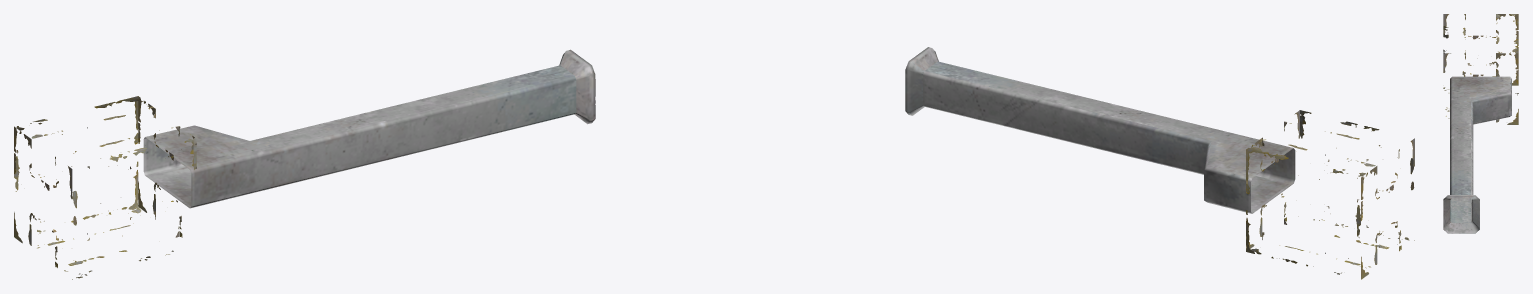
File: 100_Yellow_Extensioncord.fbx
3 views of the same model, side by side, from view 1: azimuth 30°, elevation 25°; view 2: azimuth 150°, elevation 25°; view 3: azimuth 270°, elevation 25° (orthographic). The views are drawn at different scales.
Visible parts, largest first — view 1: LOD_1_Group_0_Sub_1__sm42_209_BooklShelfJack01A_A_Mat; view 2: LOD_1_Group_0_Sub_1__sm42_209_BooklShelfJack01A_A_Mat; view 3: LOD_1_Group_0_Sub_1__sm42_209_BooklShelfJack01A_A_Mat.
Boxes of the visible parts, box(x1,y1,x2,y2) form: LOD_1_Group_0_Sub_1__sm42_209_BooklShelfJack01A_A_Mat: box(14, 49, 595, 279); LOD_1_Group_0_Sub_1__sm42_209_BooklShelfJack01A_A_Mat: box(905, 47, 1414, 279); LOD_1_Group_0_Sub_1__sm42_209_BooklShelfJack01A_A_Mat: box(1443, 14, 1518, 233).
Size of the model in its own units: 0.3992 by 0.0632 by 0.0603.
